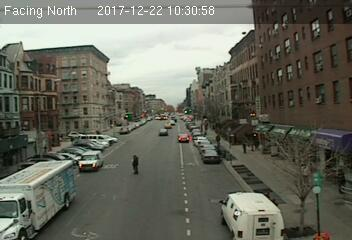car: (202, 149, 218, 161), (177, 133, 191, 143), (158, 128, 167, 135)
pedestrian: (130, 153, 140, 176)
truck: (220, 192, 288, 240), (78, 150, 105, 171)
